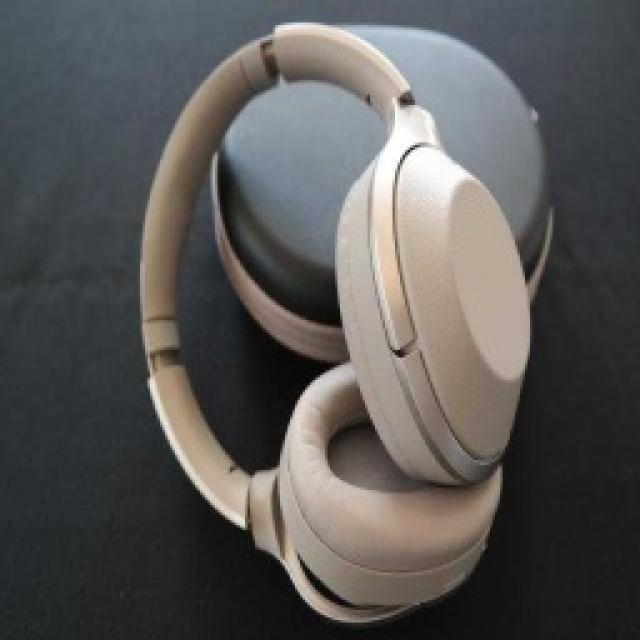headphones: (138, 17, 552, 625)
